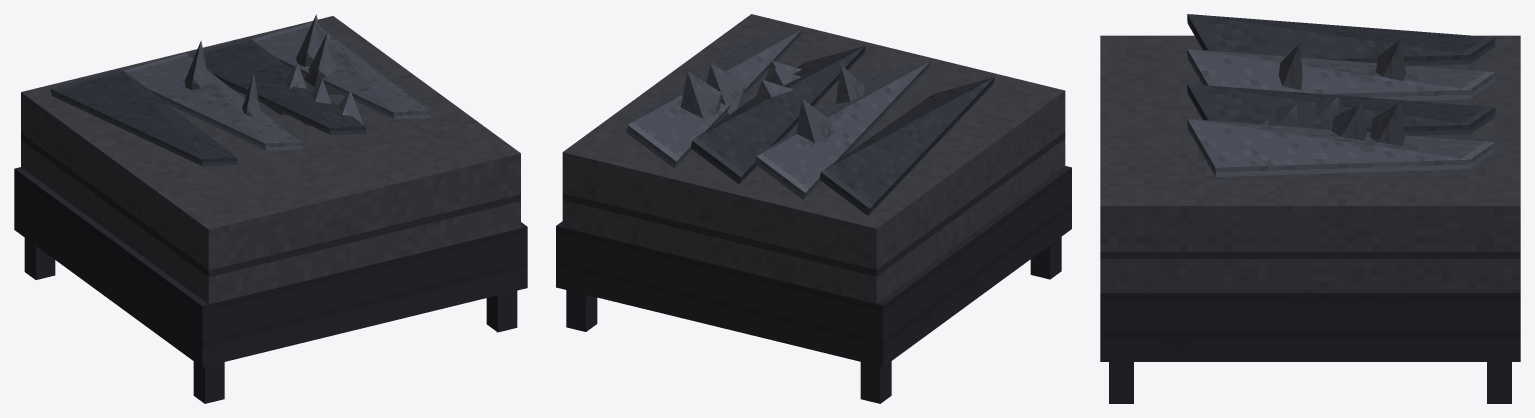
Rendered from f_vitrified_bed.glb.
The picture shows the model from 3 angles, left to right: view 1: azimuth 30°, elevation 25°; view 2: azimuth 150°, elevation 25°; view 3: azimuth 270°, elevation 25°; orthographic projection. The views are drawn at different scales.
Visible parts, largest first — view 1: block_mattress, block_frame, block_raised-rumpled-cover (×4), block_splintered-blanket-fold (×4), block_leg-0.480.42, block_leg0.420.42, block_leg-0.48-0.48; view 2: block_mattress, block_frame, block_raised-rumpled-cover (×4), block_splintered-blanket-fold (×4), block_leg-0.48-0.48, block_leg0.42-0.48, block_leg-0.480.42; view 3: block_mattress, block_raised-rumpled-cover (×4), block_frame, block_splintered-blanket-fold (×6), block_leg0.42-0.48, block_leg0.420.42.
Part boxes in pixels (<box>): block_mattress: <box>21,16,520,304</box>; block_frame: <box>14,167,527,367</box>; block_raised-rumpled-cover (×4): <box>50,22,430,166</box>; block_splintered-blanket-fold (×4): <box>184,14,341,116</box>; block_leg-0.480.42: <box>193,361,224,403</box>; block_leg0.420.42: <box>486,290,517,332</box>; block_leg-0.48-0.48: <box>24,238,55,279</box>; block_mattress: <box>562,14,1065,303</box>; block_frame: <box>556,166,1071,366</box>; block_raised-rumpled-cover (×4): <box>626,30,994,215</box>; block_splintered-blanket-fold (×4): <box>680,63,864,142</box>; block_leg-0.48-0.48: <box>860,361,891,403</box>; block_leg0.42-0.48: <box>566,290,597,331</box>; block_leg-0.480.42: <box>1030,237,1061,279</box>; block_mattress: <box>1100,35,1520,289</box>; block_raised-rumpled-cover (×4): <box>1187,14,1495,176</box>; block_frame: <box>1100,289,1520,361</box>; block_splintered-blanket-fold (×6): <box>1275,38,1405,146</box>; block_leg0.42-0.48: <box>1487,362,1511,403</box>; block_leg0.420.42: <box>1109,362,1133,403</box>.
Bounding box in the file's own units: 1 × 0.6957 × 1.
Materials: 1 (1 with a texture image).
